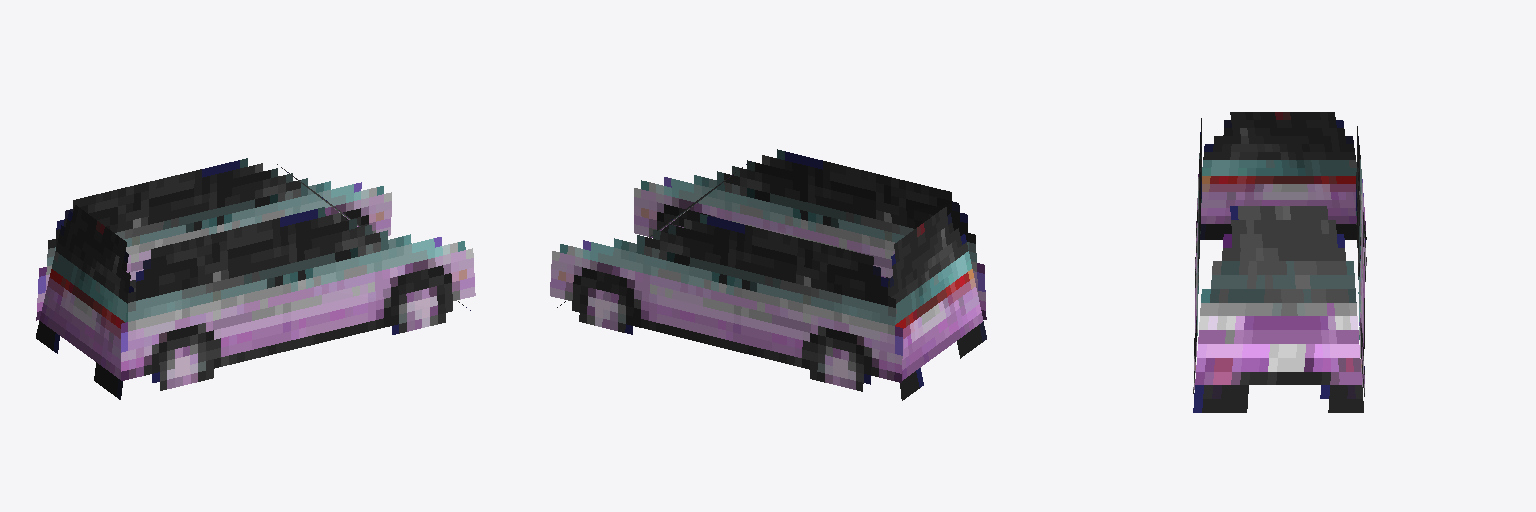
3 renders of one model, left to right at view 1: azimuth 30°, elevation 25°; view 2: azimuth 150°, elevation 25°; view 3: azimuth 270°, elevation 25°, orthographic.
Size of the model in its own units: 478 by 182 by 203.
1 materials, 1 textured.